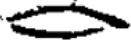Mouth: (5, 6, 126, 38)
